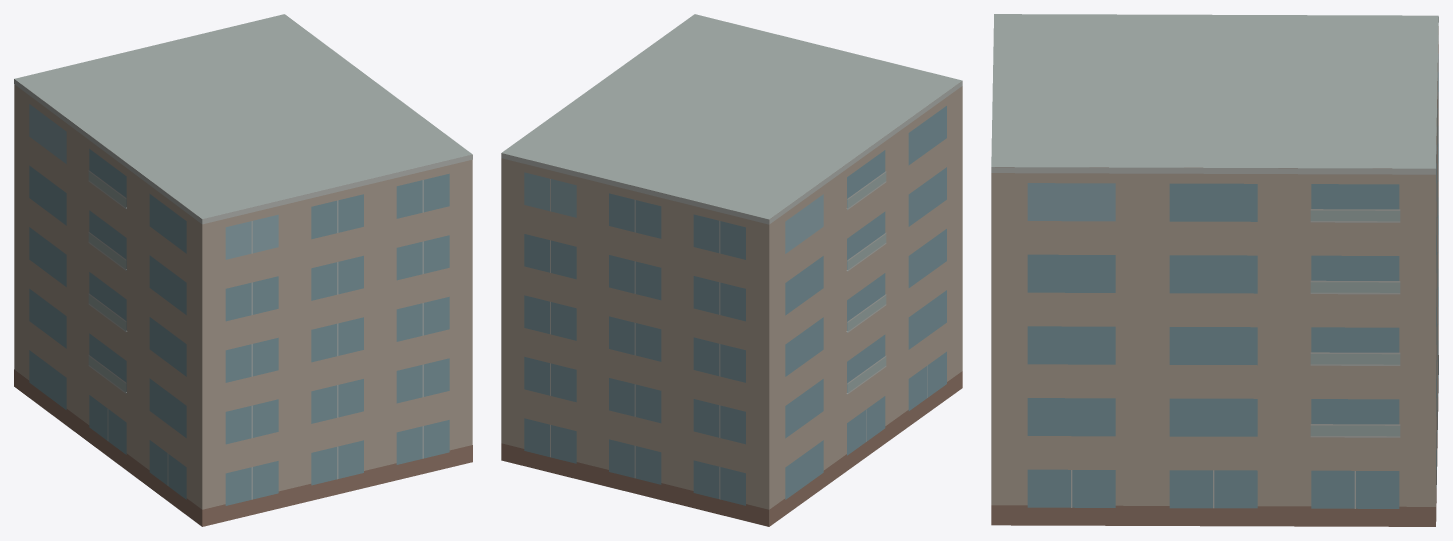
Rendered from survey-upis-32837118.glb.
3 renders of one model, left to right at view 1: azimuth 30°, elevation 25°; view 2: azimuth 150°, elevation 25°; view 3: azimuth 270°, elevation 25°, orthographic. The views are drawn at different scales.
Visible parts, largest first — view 1: survey-upis-32837118.tmp; view 2: survey-upis-32837118.tmp; view 3: survey-upis-32837118.tmp.
Part boxes in pixels (x1=…): survey-upis-32837118.tmp: x1=14, y1=14, x2=472, y2=526; survey-upis-32837118.tmp: x1=501, y1=14, x2=962, y2=526; survey-upis-32837118.tmp: x1=991, y1=14, x2=1438, y2=526.
Size of the model in its own units: 13.45 by 14.5 by 16.42.
